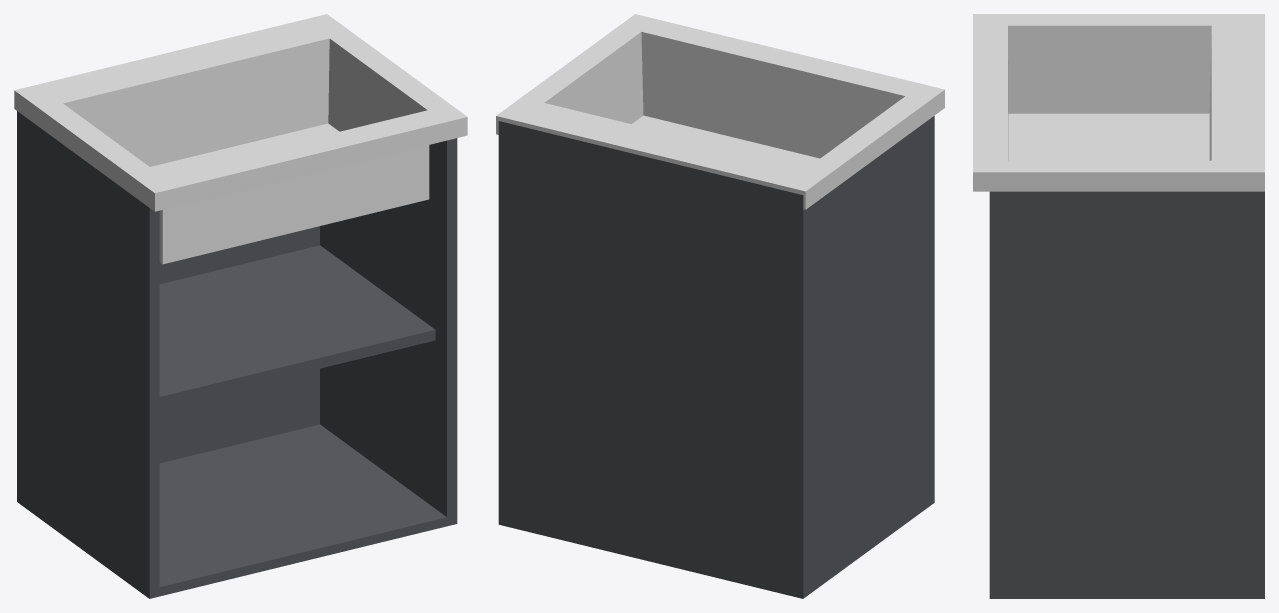
File: Bathroom_C3_03.fbx
3 renders of one model, left to right at view 1: azimuth 30°, elevation 25°; view 2: azimuth 150°, elevation 25°; view 3: azimuth 270°, elevation 25°, orthographic. The views are drawn at different scales.
Visible parts, largest first — view 1: Bathroom_C3_03; view 2: Bathroom_C3_03; view 3: Bathroom_C3_03.
Boxes of the visible parts, x1=… form: Bathroom_C3_03: x1=14, y1=14, x2=467, y2=598; Bathroom_C3_03: x1=496, y1=14, x2=944, y2=598; Bathroom_C3_03: x1=973, y1=14, x2=1264, y2=598.
Bounding box in the file's own units: 61 × 76.82 × 47.51.
